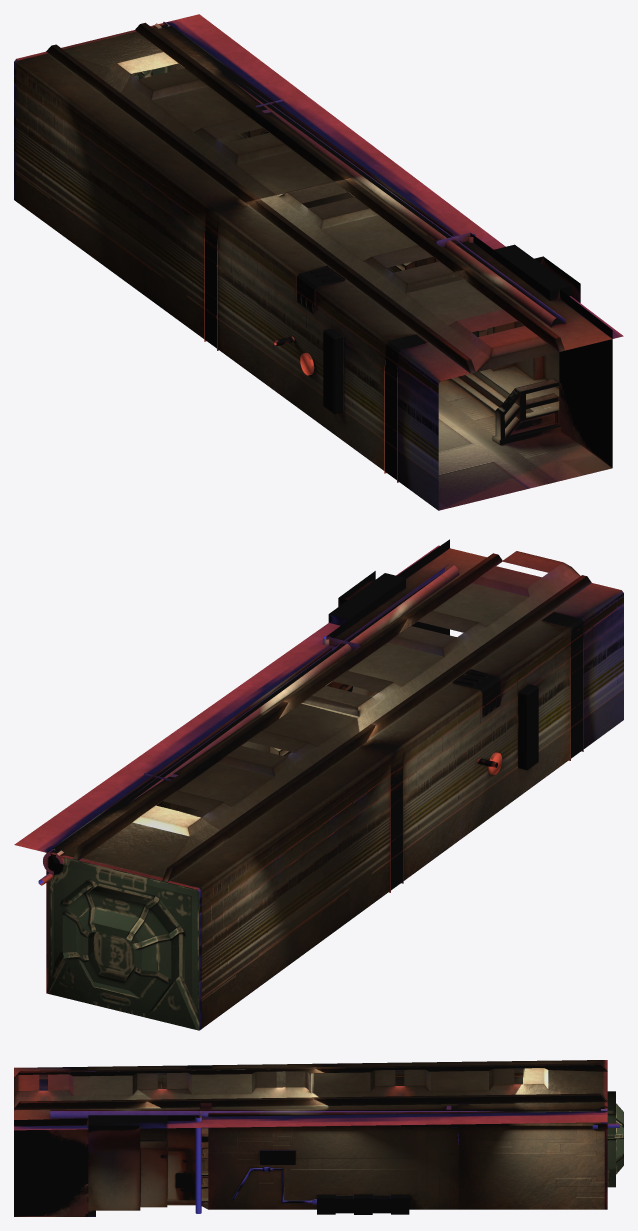
File: variosuvs3.glb
3 views of the same model, one above another, from view 1: azimuth 30°, elevation 25°; view 2: azimuth 150°, elevation 25°; view 3: azimuth 270°, elevation 25° (orthographic). The views are drawn at different scales.
Parts seen in each view (by area): view 1: simplebake_Baked; view 2: simplebake_Baked; view 3: simplebake_Baked.
Part boxes in pixels (x1,y1,x2,y2): simplebake_Baked: (14,14,623,510); simplebake_Baked: (14,539,623,1030); simplebake_Baked: (14,1060,623,1216).
Bounding box in the file's own units: 21.51 × 15.24 × 76.23.
1 material, 1 textured.
